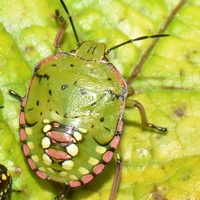insect: (20, 0, 126, 179)
